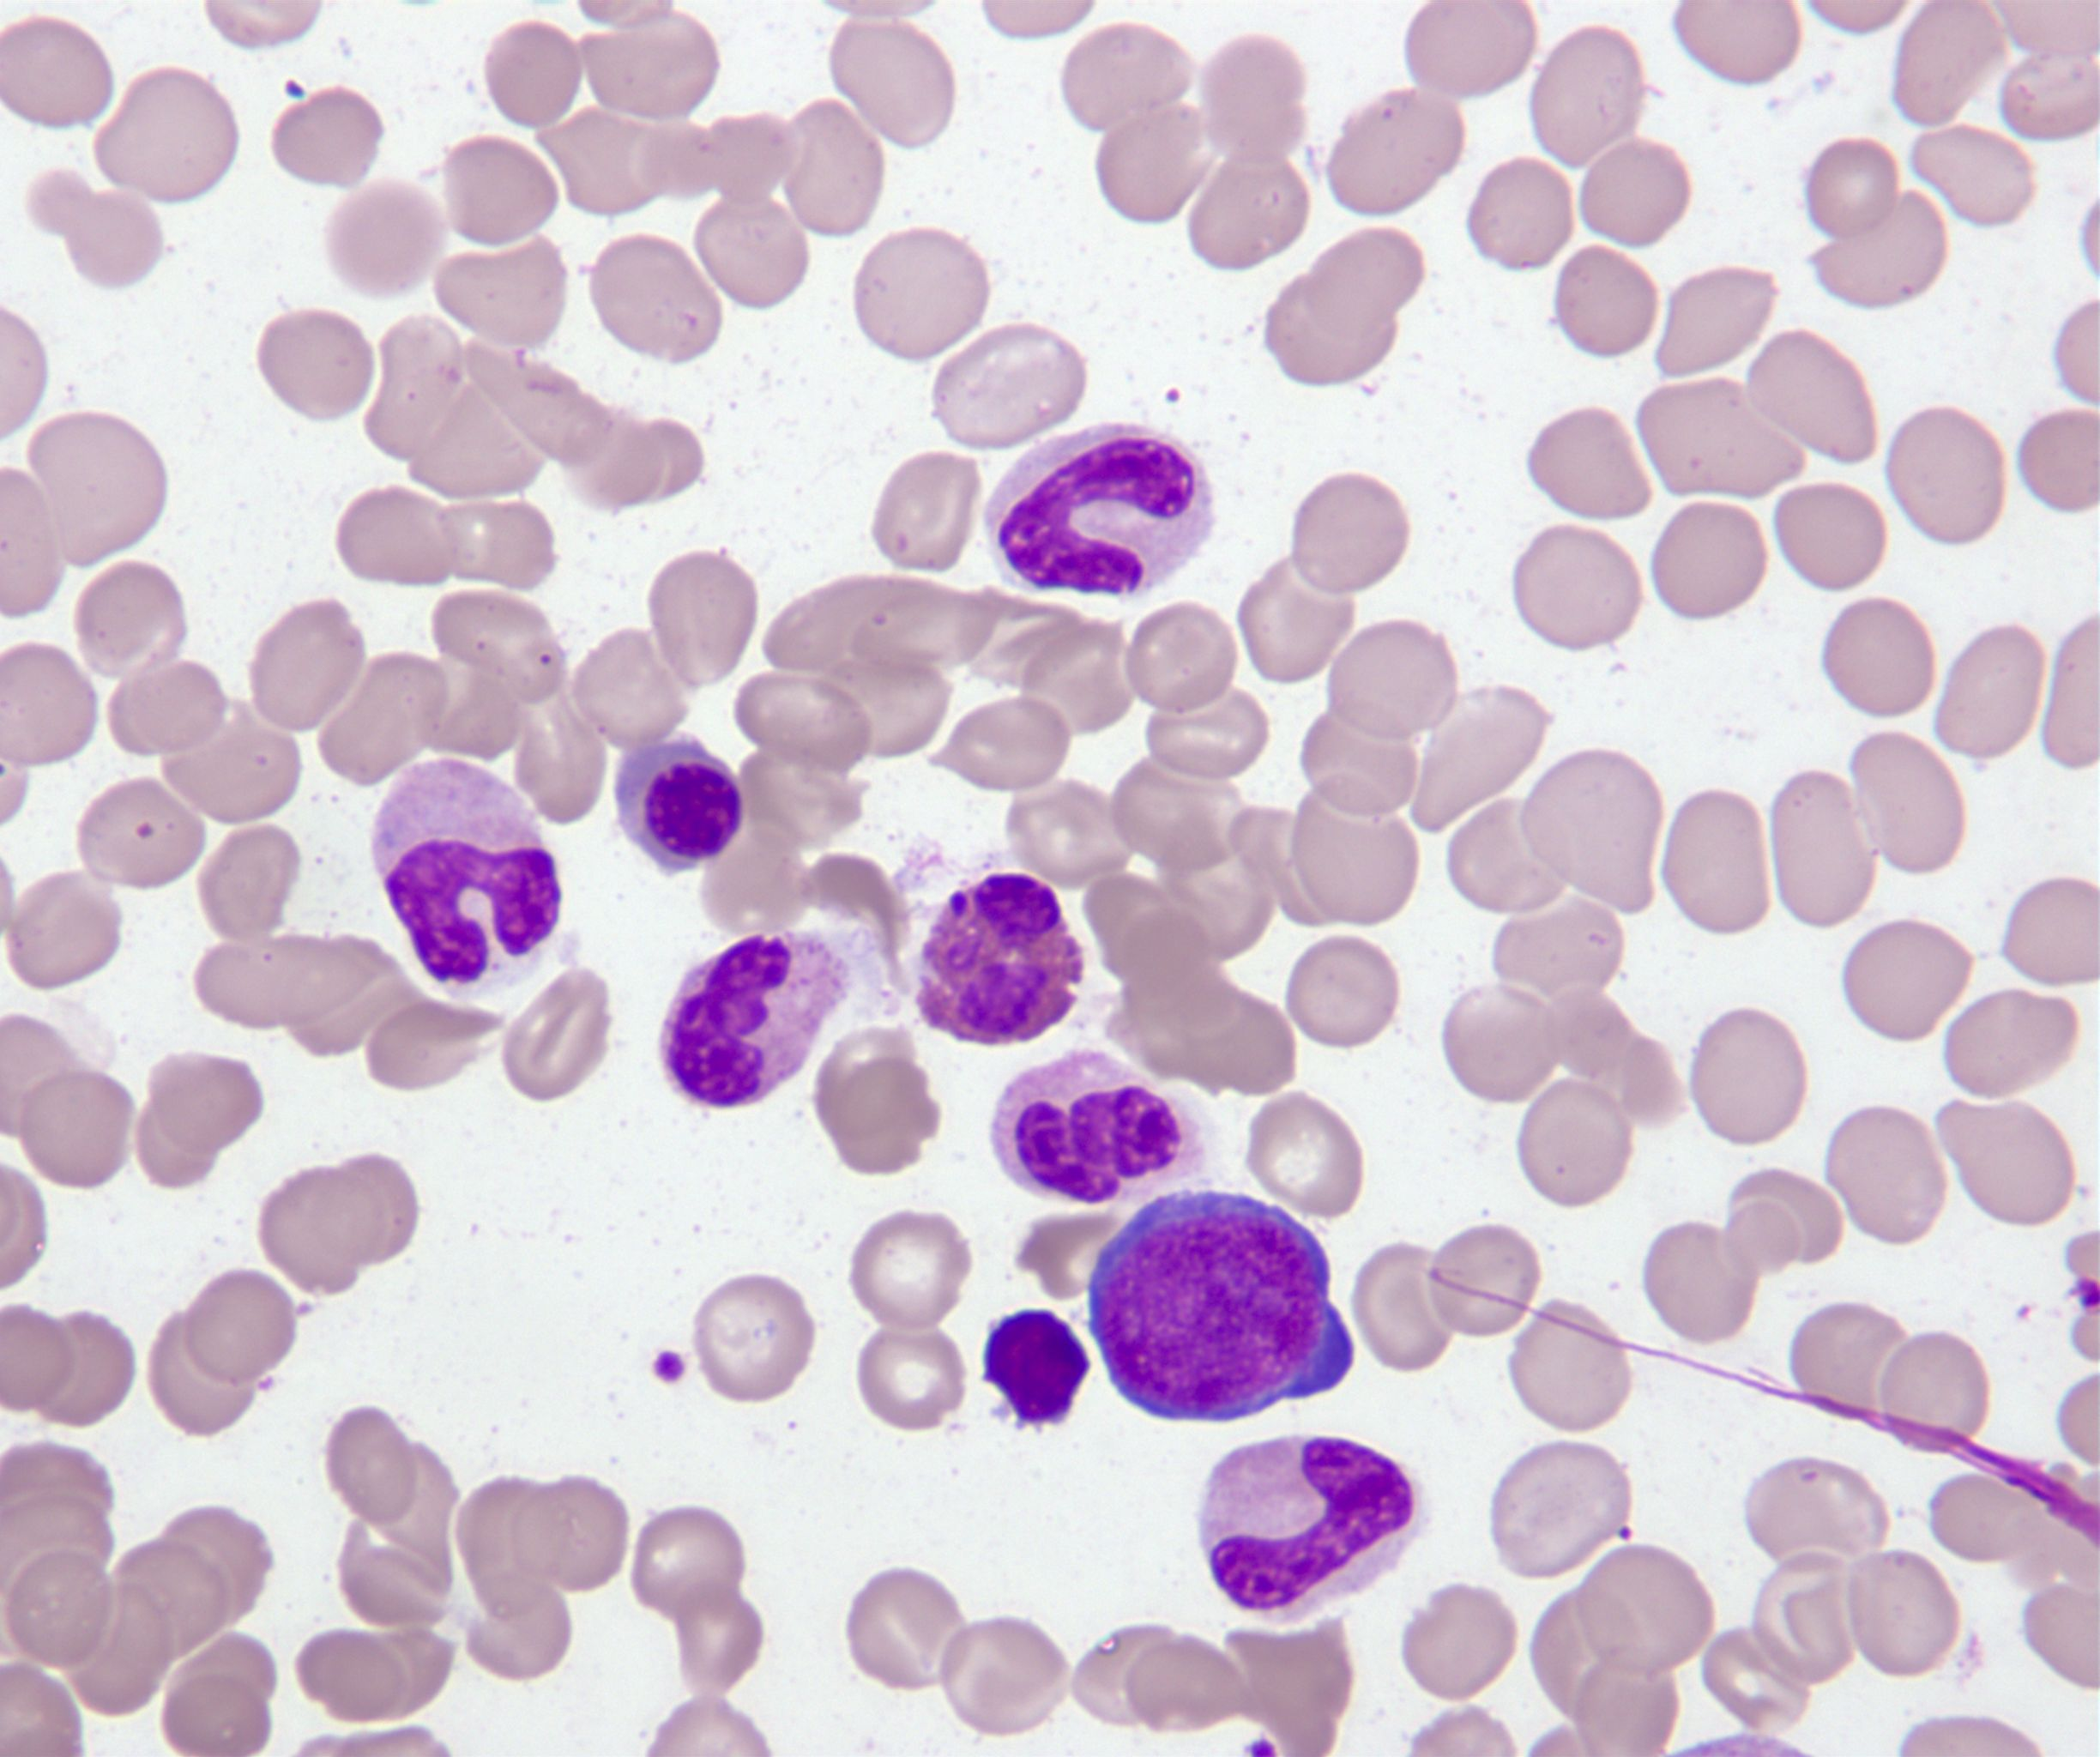22: (1088, 1192, 1353, 1420)
23: (616, 742, 743, 878)
32: (984, 1312, 1088, 1422)
5: (372, 759, 560, 998), (1200, 1436, 1428, 1619), (985, 424, 1212, 600), (659, 930, 848, 1110)
6: (994, 1050, 1203, 1207)
E4: (914, 874, 1083, 1043)
